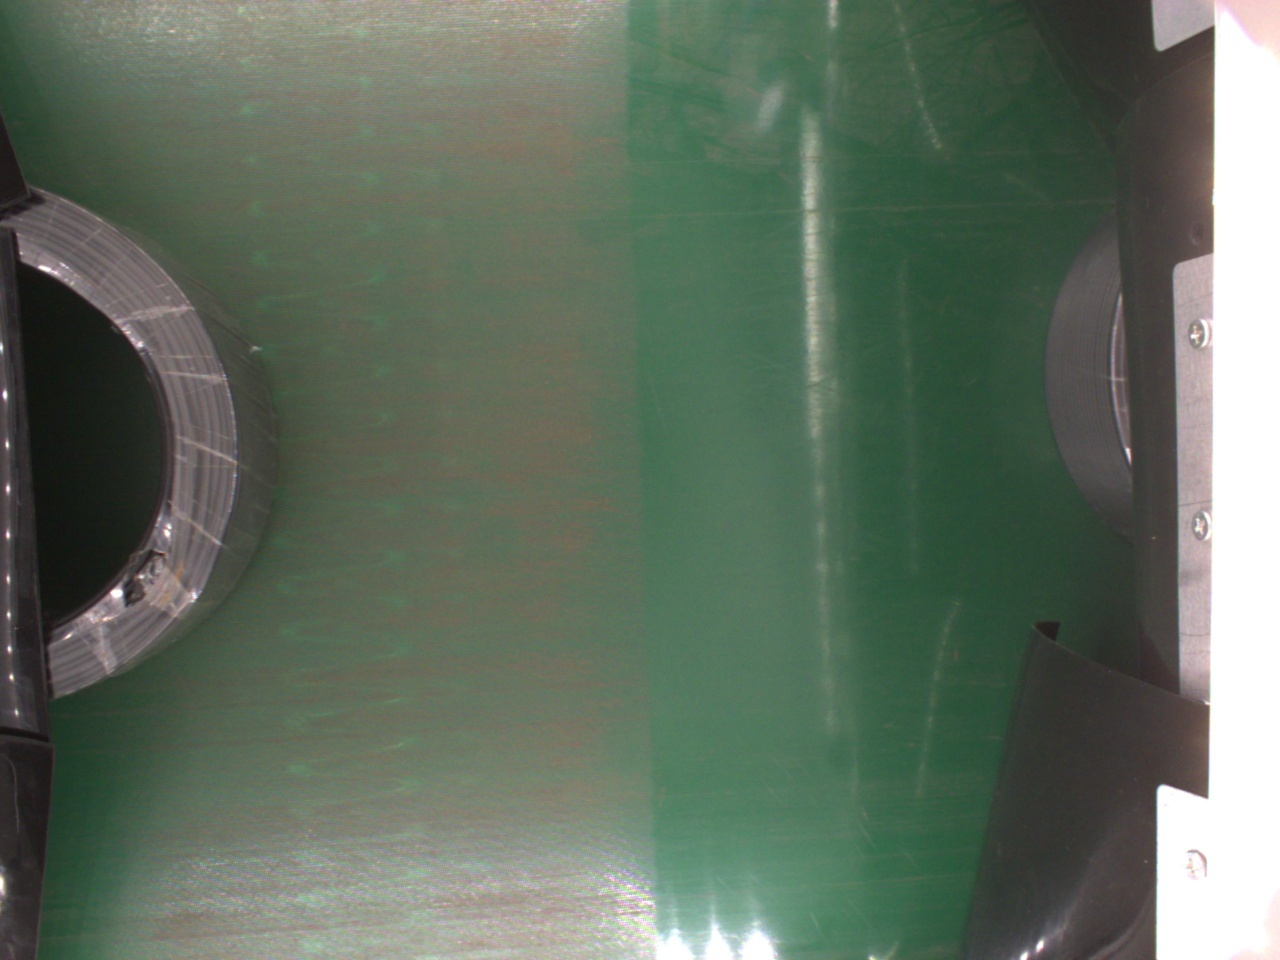black: (10, 182, 276, 696), (1044, 226, 1143, 524)
